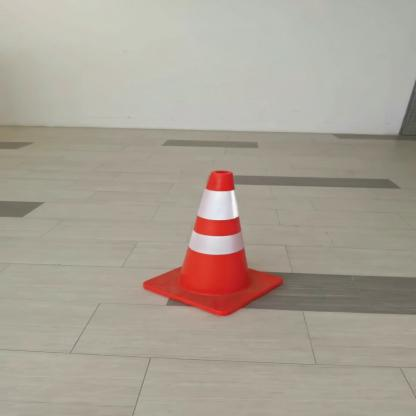cone: (136, 162, 300, 314)
